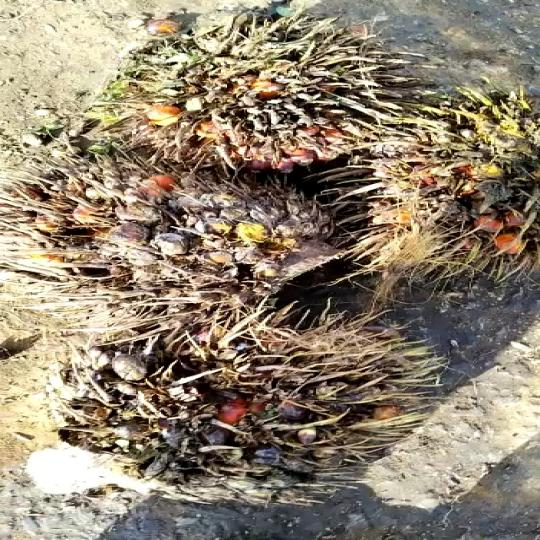terlalu masak: (58, 297, 443, 483), (105, 11, 424, 152), (0, 164, 343, 292)
